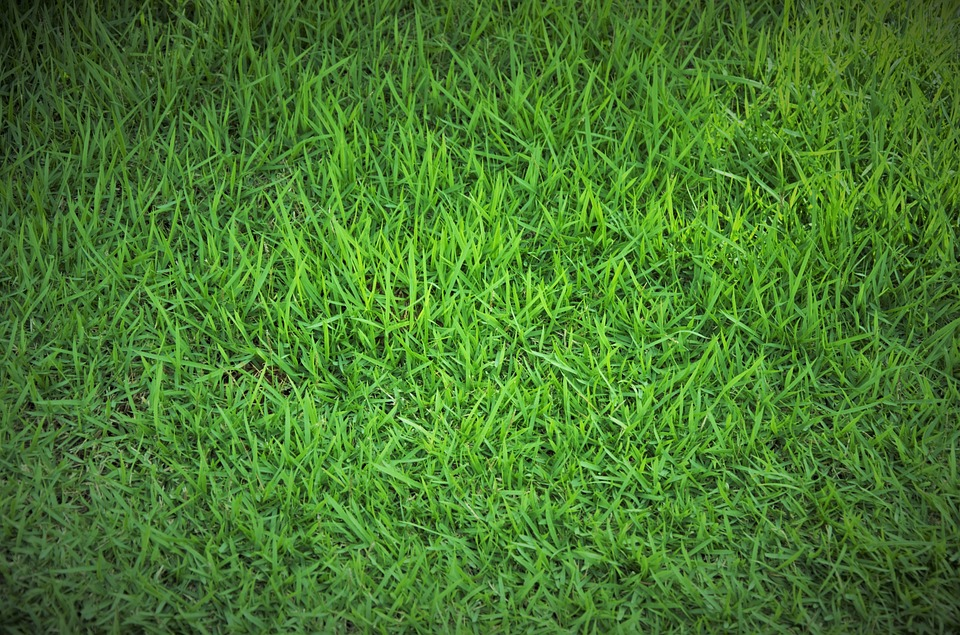grass: (1, 4, 959, 635)
